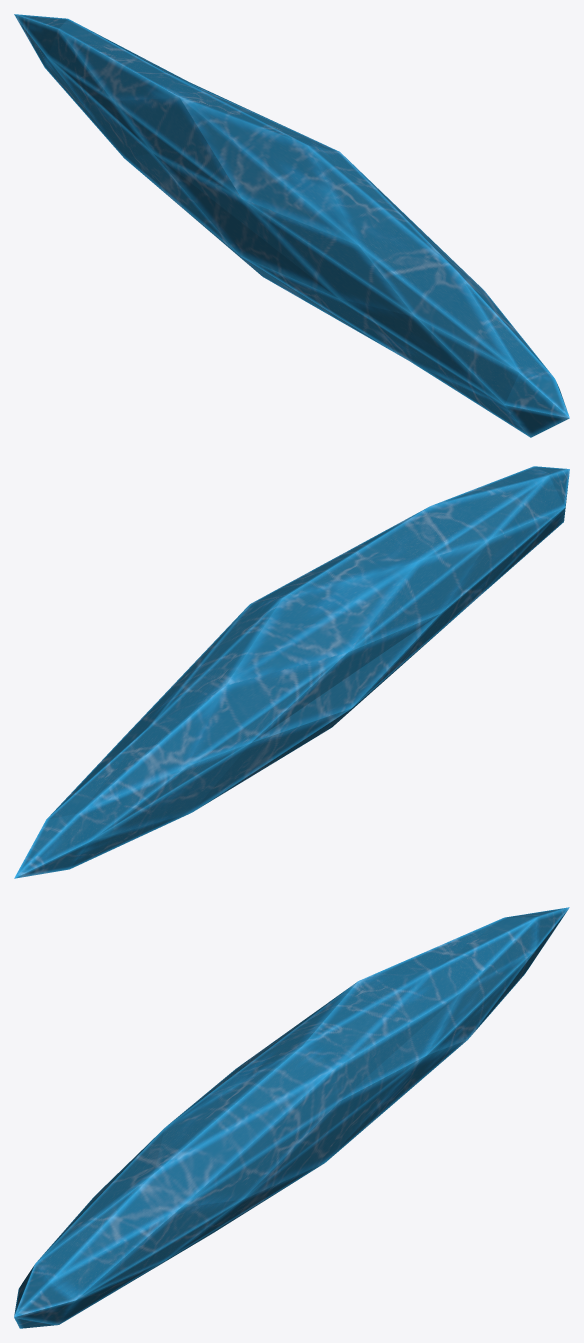
Rendered from iceSpike.fbx.
3 renders of one model, top to bottom at view 1: azimuth 30°, elevation 25°; view 2: azimuth 150°, elevation 25°; view 3: azimuth 330°, elevation 25°, orthographic.
Visible parts, largest first — view 1: Icosphere; view 2: Icosphere; view 3: Icosphere.
Part boxes in pixels (x1,y1,x2,y2): Icosphere: [14, 14, 569, 437]; Icosphere: [14, 466, 569, 878]; Icosphere: [14, 907, 569, 1328].
Bounding box in the file's own units: 48.69 × 58.07 × 430.
